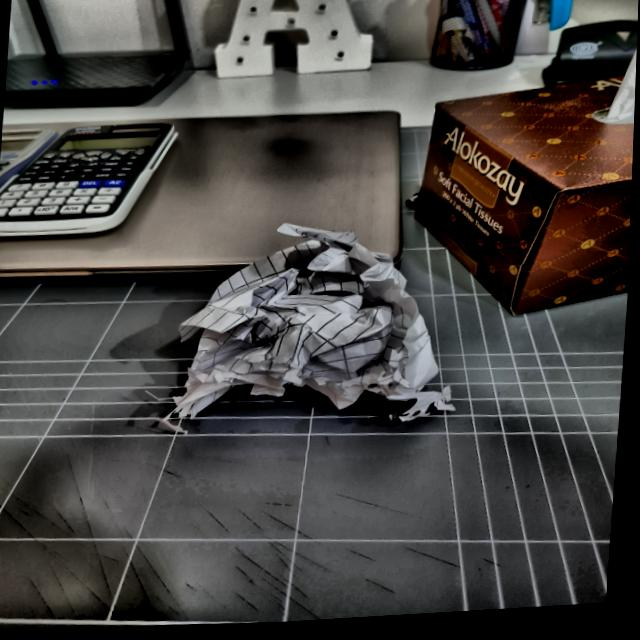Paper: (159, 214, 466, 442)
